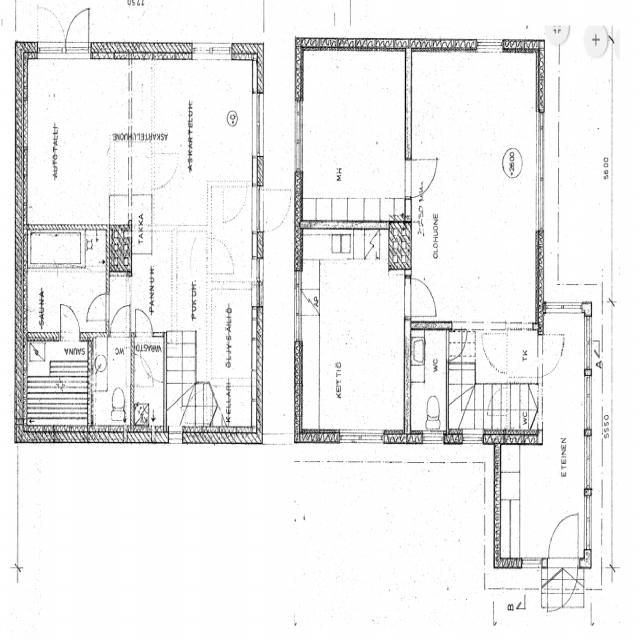door: (547, 512, 577, 568), (547, 557, 577, 613), (404, 159, 437, 197), (404, 277, 436, 315), (66, 8, 88, 59), (60, 304, 79, 340), (110, 303, 130, 337), (446, 330, 468, 359), (87, 293, 109, 320), (135, 307, 152, 337)
